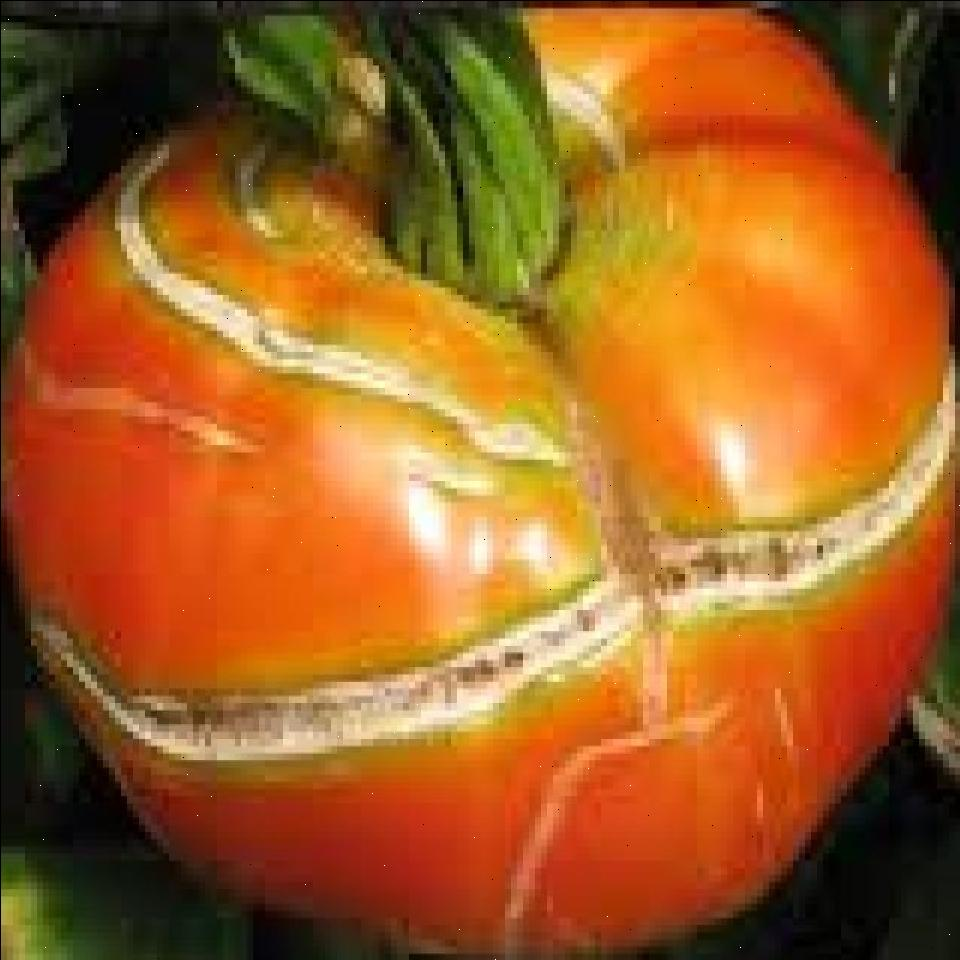Cracking: (2, 350, 960, 782), (78, 137, 592, 476), (279, 22, 695, 188)
